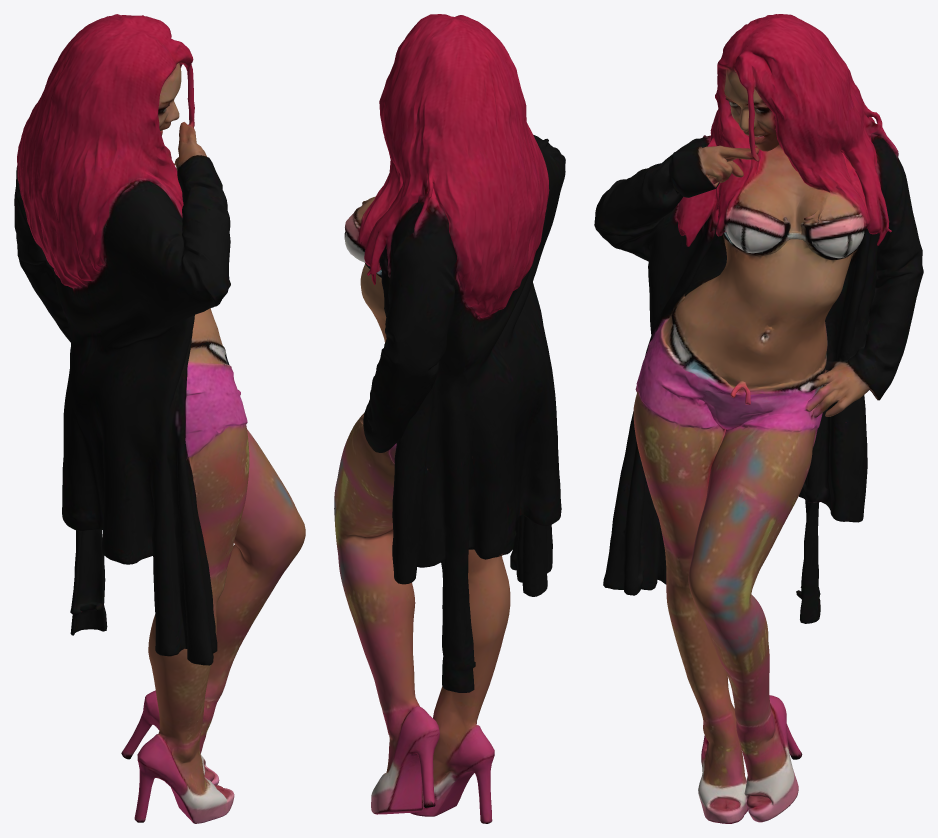
Rendered from TYLA_2.glb.
The picture shows the model from 3 angles, left to right: view 1: azimuth 30°, elevation 25°; view 2: azimuth 150°, elevation 25°; view 3: azimuth 270°, elevation 25°; orthographic projection. The views are drawn at different scales.
Visible parts, largest first — view 1: tripo_node_ebe9ffd7-b0f2-4995-be0a-4a45ac365996; view 2: tripo_node_ebe9ffd7-b0f2-4995-be0a-4a45ac365996; view 3: tripo_node_ebe9ffd7-b0f2-4995-be0a-4a45ac365996.
Boxes of the visible parts, <box> form: tripo_node_ebe9ffd7-b0f2-4995-be0a-4a45ac365996: <box>14,14,305,823</box>; tripo_node_ebe9ffd7-b0f2-4995-be0a-4a45ac365996: <box>334,14,565,823</box>; tripo_node_ebe9ffd7-b0f2-4995-be0a-4a45ac365996: <box>594,14,923,823</box>.
Bounding box in the file's own units: 0.2993 × 1 × 0.3873.
Materials: 1 (1 with a texture image).
